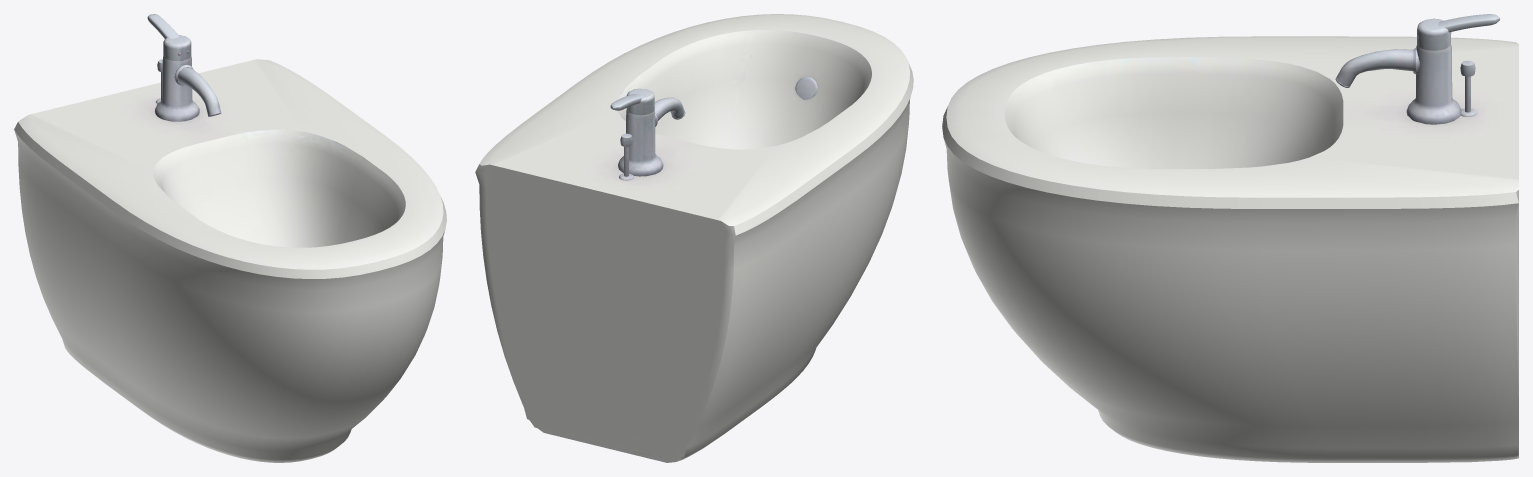
The model's file is bidet.glb.
3 renders of one model, left to right at view 1: azimuth 30°, elevation 25°; view 2: azimuth 150°, elevation 25°; view 3: azimuth 270°, elevation 25°, orthographic. The views are drawn at different scales.
Visible parts, largest first — view 1: bidet_body; view 2: bidet_body; view 3: bidet_body, bidet_lever.
Boxes of the visible parts, x1,y1,x2,y2 form: bidet_body: (14, 35, 446, 462); bidet_body: (475, 14, 913, 462); bidet_body: (942, 18, 1518, 462); bidet_lever: (1438, 14, 1499, 32).
Size of the model in its own units: 0.368 by 0.4212 by 0.544.
Materials: 2 (2 with a texture image).
